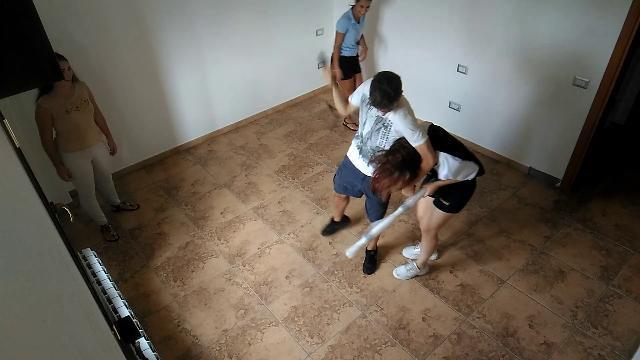non-violence: (29, 53, 139, 248), (328, 0, 380, 134)
violence: (312, 48, 484, 282)
